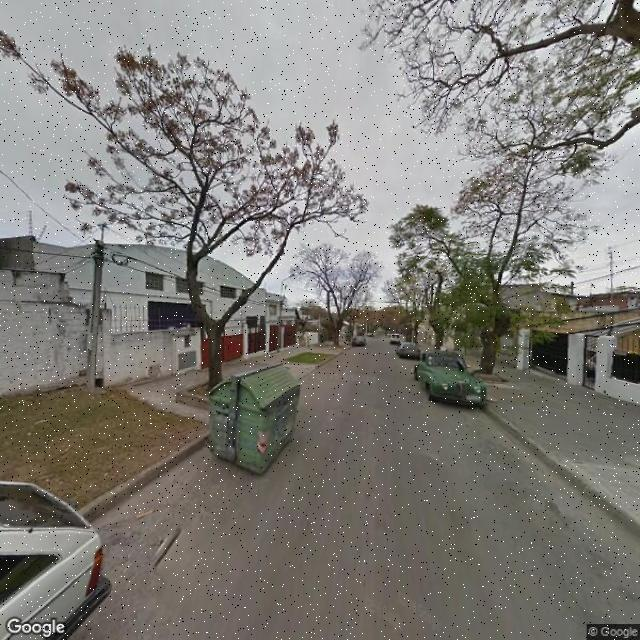garbage container: (195, 352, 317, 486)
